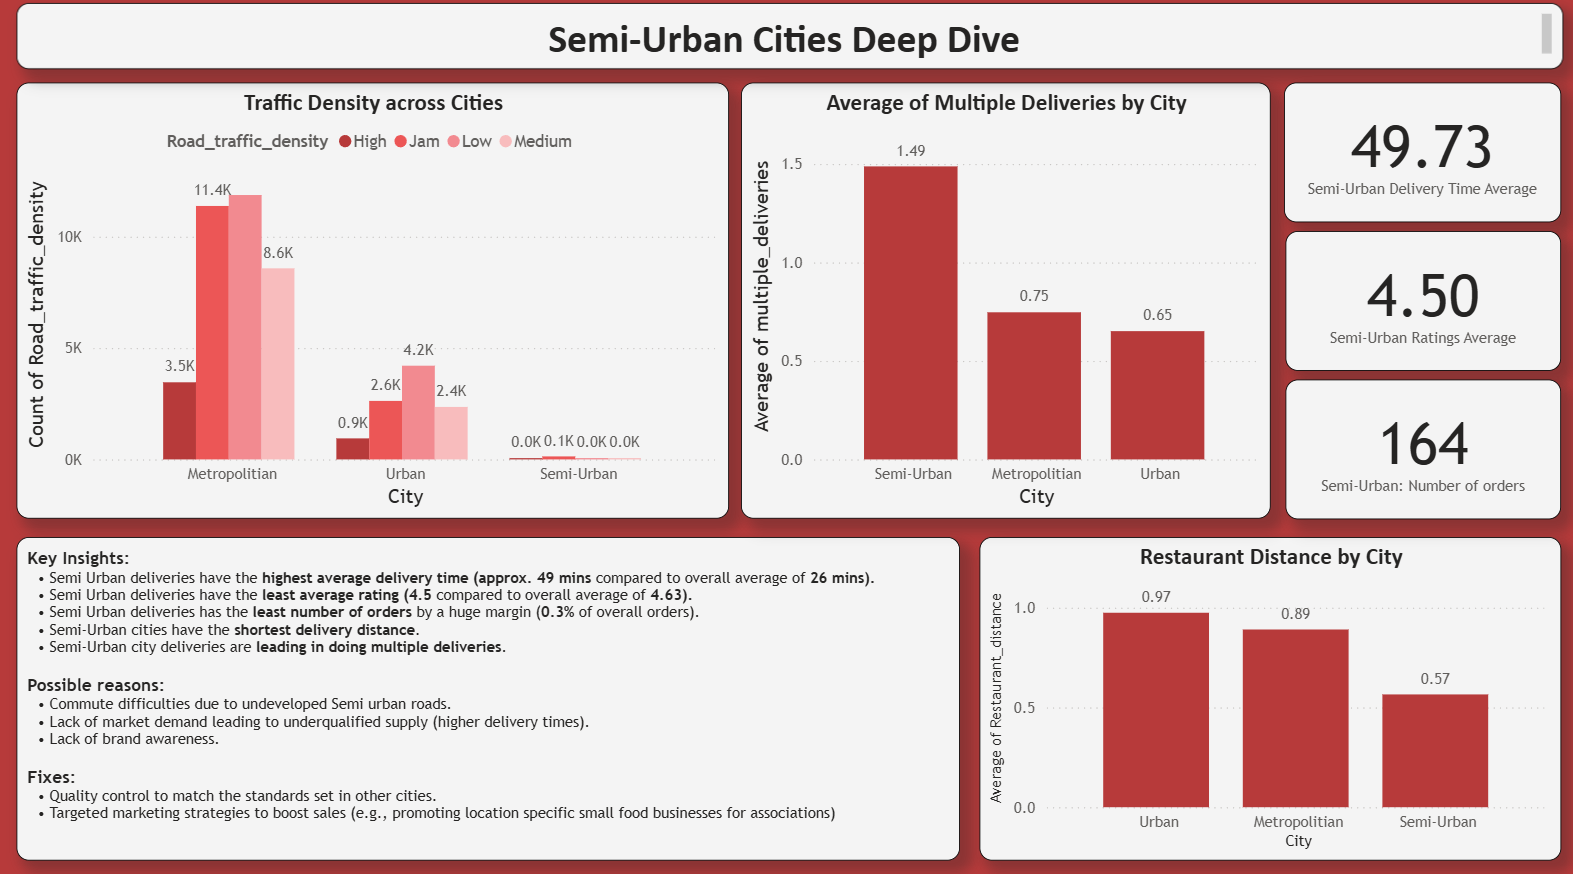

The page's visual inventory and layout, read from the dashboard file:
{"tool":"powerbi","page":{"name":"Geographical casestudy","canvas":[1280,720],"ordinal":4},"visuals":[{"type":"clusteredColumnChart","title":"Traffic Density across Cities","fields":{"Category":["zomato_data zomato.City"],"Series":["zomato_data zomato.Road_traffic_density"],"Y":["CountNonNull(zomato_data zomato.Road_traffic_density)"]},"box":[18.1,73.7,573.9,351.6],"z":0},{"type":"textbox","box":[18.1,439.8,760,261],"z":2000},{"type":"clusteredColumnChart","title":"Restaurant Distance by City","fields":{"Category":["zomato_data zomato.City"],"Y":["Avg(zomato_data zomato.Restaurant_distance)"]},"box":[793.9,439.8,468.8,261],"z":3000},{"type":"clusteredColumnChart","title":"Average of Multiple Deliveries by City","fields":{"Category":["zomato_data zomato.City"],"Y":["Avg(zomato_data zomato.multiple_deliveries)"]},"box":[601.7,73.7,426.5,351.6],"z":4000},{"type":"textbox","box":[18.1,9.7,1245.8,53.2],"z":5000},{"type":"card","fields":{"Values":["Avg(zomato_data zomato.Time_taken_mins)"]},"box":[1039.1,73.7,223.5,112.4],"z":6000},{"type":"card","fields":{"Values":["Avg(zomato_data zomato.Delivery_person_Ratings)"]},"box":[1040.4,193.3,222.3,112.4],"z":7000},{"type":"card","fields":{"Values":["Count(zomato_data zomato.ID)"]},"box":[1040.4,313,222.3,112.4],"z":8000}]}

Visuals, with their boxes in screenshot pixels (x1, y1, x2, y2), scaled from the page's 1280x720 canvas onto the 1573x874 screenshot:
"Traffic Density across Cities" clusteredColumnChart: left=22, top=89, right=728, bottom=516
textbox: left=22, top=534, right=956, bottom=851
"Restaurant Distance by City" clusteredColumnChart: left=976, top=534, right=1552, bottom=851
"Average of Multiple Deliveries by City" clusteredColumnChart: left=739, top=89, right=1264, bottom=516
textbox: left=22, top=12, right=1553, bottom=76
card - Avg(zomato_data zomato.Time_taken_mins): left=1277, top=89, right=1552, bottom=226
card - Avg(zomato_data zomato.Delivery_person_Ratings): left=1279, top=235, right=1552, bottom=371
card - Count(zomato_data zomato.ID): left=1279, top=380, right=1552, bottom=516
